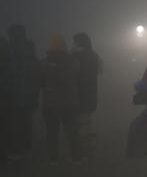person: (37, 30, 77, 163), (69, 31, 105, 164), (6, 23, 39, 158)
